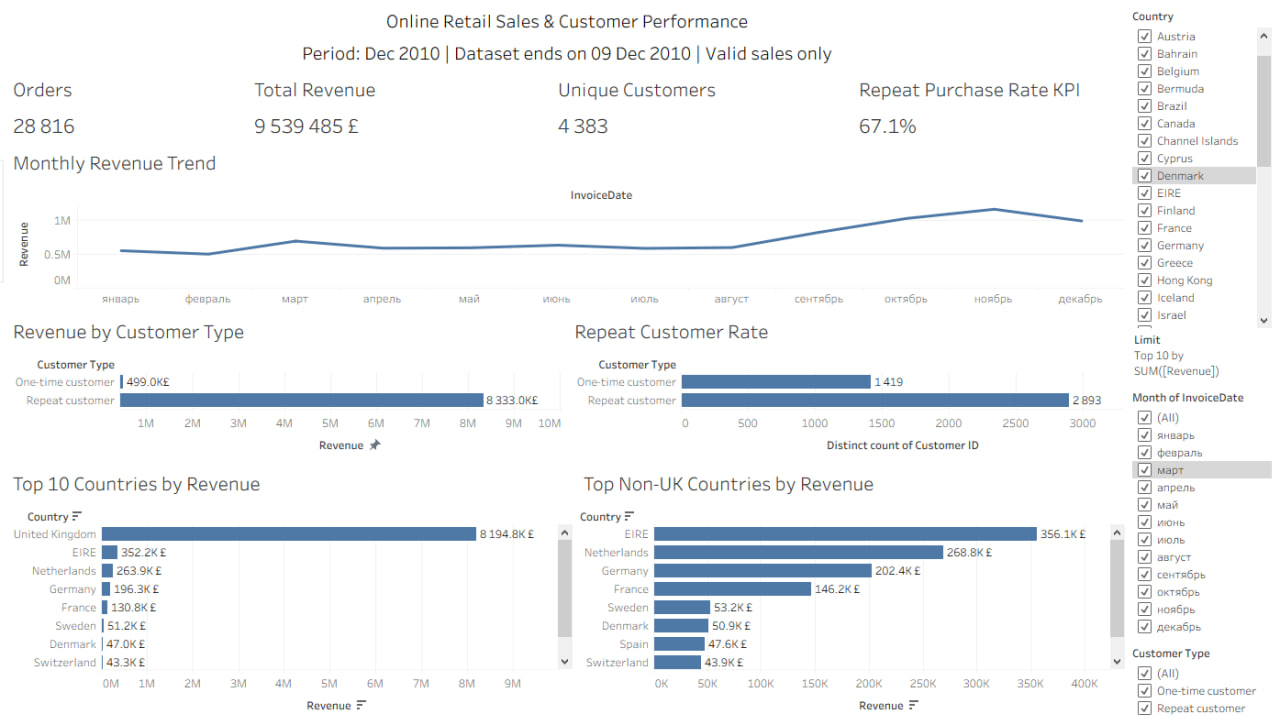

Layout of this report page (visuals, bound fields, positions):
{"tool":"tableau","page":{"name":"Dashboard 1","canvas":[1400,1000],"ordinal":0},"visuals":[{"type":"text","box":[8,8,1224,35]},{"type":"filter","title":"Top 10 Countries by Revenue","param":"[federated.1x6ibs21swv5g8131yec90fprpp1].[none:Country:nk]","box":[1232,8,160,616]},{"type":"text","box":[8,43,1224,35]},{"type":"worksheet","title":"Orders","mark":"Automatic","box":[8,78,263,80]},{"type":"worksheet","title":"Total Revenue","mark":"Automatic","box":[271,78,331,80]},{"type":"worksheet","title":"Unique Customers","mark":"Automatic","box":[602,78,328,80]},{"type":"worksheet","title":"Repeat Purchase Rate KPI","mark":"Automatic","box":[930,78,295,80]},{"type":"worksheet","title":"Monthly Revenue Trend","mark":"Line","rows":["Calculation_1342272221278208"],"cols":["InvoiceDate"],"box":[8,158,1224,342]},{"type":"worksheet","title":"Revenue by Customer Type","mark":"Automatic","rows":["Calculation_1342272227082245"],"cols":["Calculation_1342272221278208"],"box":[8,500,612,166]},{"type":"worksheet","title":"Repeat Customer Rate","mark":"Bar","rows":["Calculation_1342272227082245"],"cols":["Customer ID"],"box":[620,500,612,166]},{"type":"filter","title":"Monthly Revenue Trend","param":"[federated.1x6ibs21swv5g8131yec90fprpp1].[mn:InvoiceDate:ok]","box":[1232,624,160,279]},{"type":"worksheet","title":"Top 10 Countries by Revenue","mark":"Automatic","rows":["Country"],"cols":["Calculation_1342272221278208"],"box":[8,666,622,326]},{"type":"worksheet","title":"Top Non-UK Countries by Revenue","mark":"Automatic","rows":["Country"],"cols":["Calculation_1342272221278208"],"box":[630,666,602,326]},{"type":"filter","title":"Revenue by Customer Type","param":"[federated.1x6ibs21swv5g8131yec90fprpp1].[none:Calculation_1342272227082245:nk]","box":[1232,903,160,89]}]}

Visuals, with their boxes on the page's 1400x1000 design canvas (x1, y1, x2, y2). These are canvas units, not pixel positions in the 1280x725 screenshot, which may show the page scaled, cropped or inside an application window:
text: (left=8, top=8, right=1232, bottom=43)
"Top 10 Countries by Revenue" filter: (left=1232, top=8, right=1392, bottom=624)
text: (left=8, top=43, right=1232, bottom=78)
"Orders" worksheet: (left=8, top=78, right=271, bottom=158)
"Total Revenue" worksheet: (left=271, top=78, right=602, bottom=158)
"Unique Customers" worksheet: (left=602, top=78, right=930, bottom=158)
"Repeat Purchase Rate KPI" worksheet: (left=930, top=78, right=1225, bottom=158)
"Monthly Revenue Trend" worksheet (Line marks): (left=8, top=158, right=1232, bottom=500)
"Revenue by Customer Type" worksheet: (left=8, top=500, right=620, bottom=666)
"Repeat Customer Rate" worksheet (Bar marks): (left=620, top=500, right=1232, bottom=666)
"Monthly Revenue Trend" filter: (left=1232, top=624, right=1392, bottom=903)
"Top 10 Countries by Revenue" worksheet: (left=8, top=666, right=630, bottom=992)
"Top Non-UK Countries by Revenue" worksheet: (left=630, top=666, right=1232, bottom=992)
"Revenue by Customer Type" filter: (left=1232, top=903, right=1392, bottom=992)
